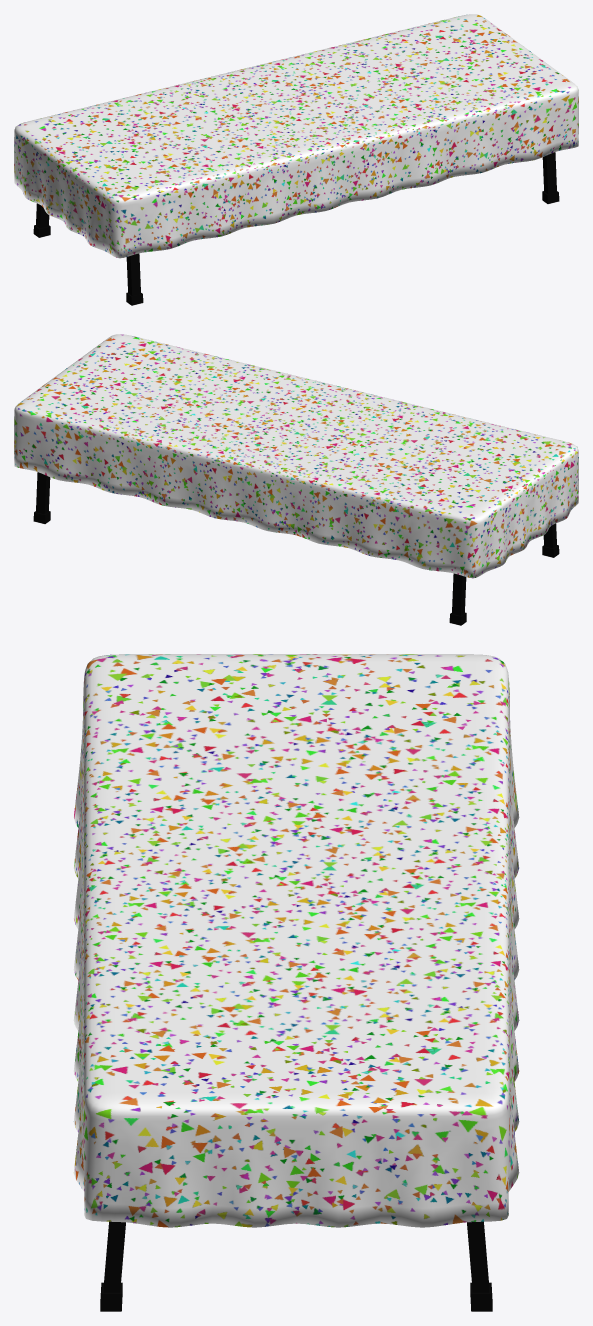
3 renders of one model, top to bottom at view 1: azimuth 30°, elevation 25°; view 2: azimuth 150°, elevation 25°; view 3: azimuth 270°, elevation 25°, orthographic. The views are drawn at different scales.
Parts seen in each view (by area): view 1: Cloth, Table; view 2: Cloth, Table; view 3: Cloth, Table.
Boxes of the visible parts, x1,y1,x2,y2 form: Cloth: [14, 14, 578, 258]; Table: [33, 152, 559, 305]; Cloth: [14, 334, 578, 578]; Table: [33, 472, 559, 625]; Cloth: [73, 654, 519, 1227]; Table: [100, 1221, 492, 1311].
Bounding box in the file's own units: 3.79 × 0.8558 × 1.53.
Materials: 2 (2 with a texture image).
